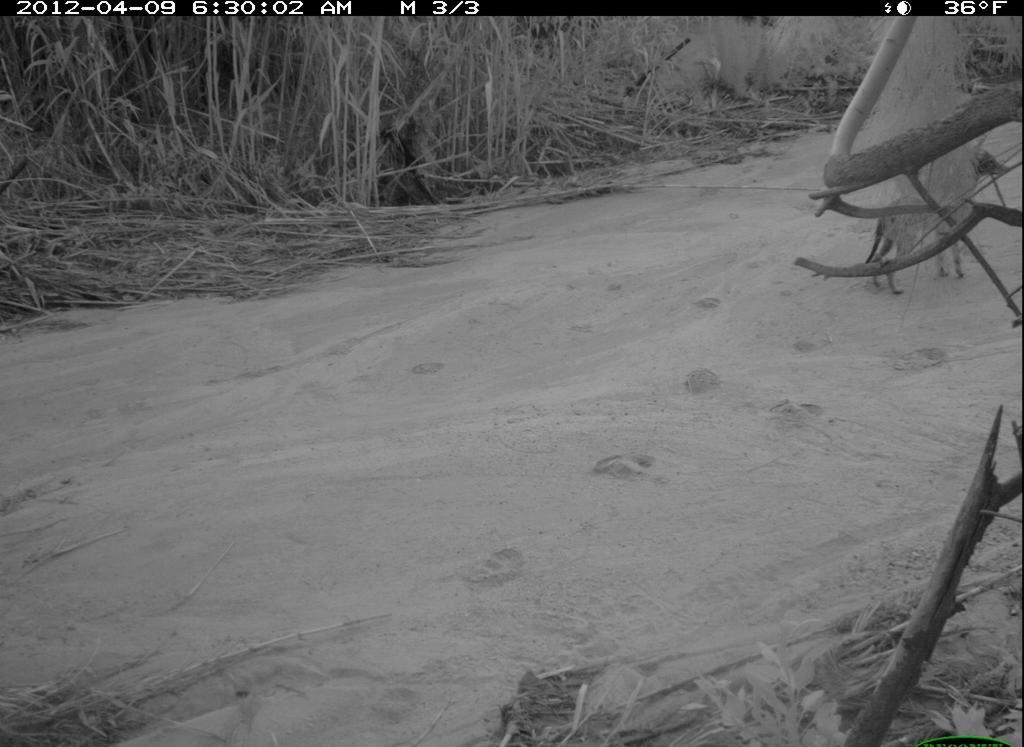coyote: (862, 129, 1000, 297)
